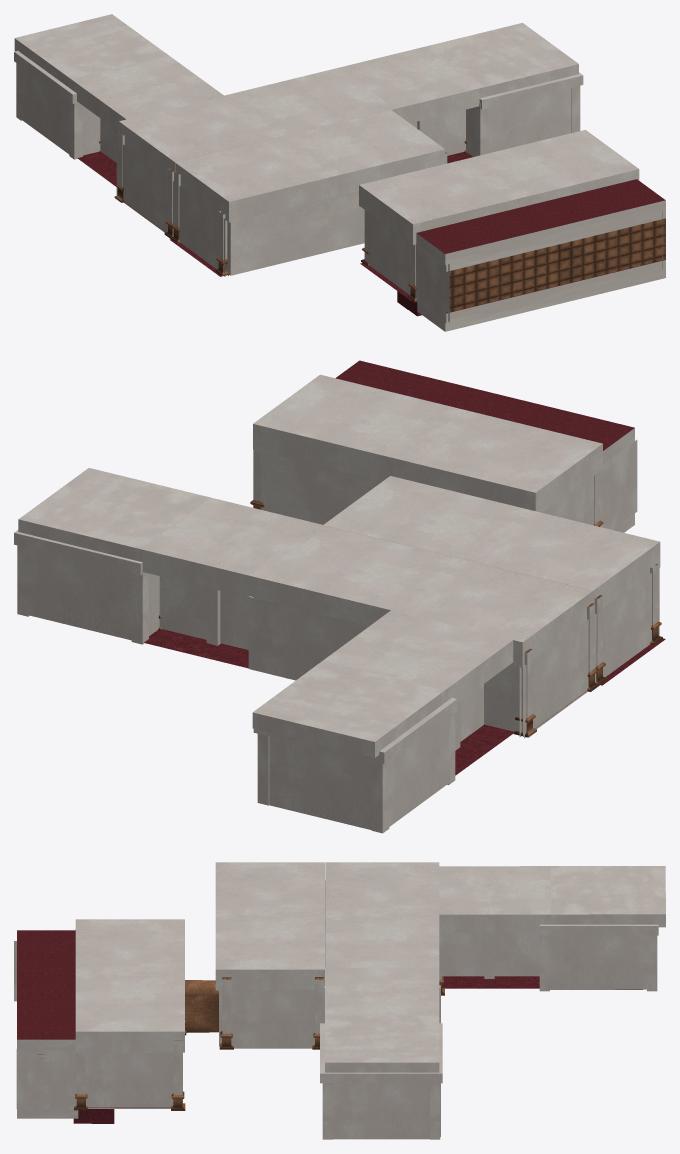
File: capstone_blockout.glb
3 renders of one model, top to bottom at view 1: azimuth 30°, elevation 25°; view 2: azimuth 150°, elevation 25°; view 3: azimuth 270°, elevation 25°, orthographic. The views are drawn at different scales.
Parts seen in each view (by area): view 1: roof-picture, roof-picture.001, roofl-foyer, Cube.004, walls, walls.013, walls.002, roof-hall, roof, roof-hall.001, roof.001, walls.006 (+9 smaller); view 2: walls, roof-picture.001, roofl-foyer, roof-picture, walls.006, roof.001, roof-hall, roof, roof-hall.001, Cube.004, walls.011, walls.003 (+7 smaller); view 3: roof-picture.001, roof-picture, roofl-foyer, walls.006, walls, roof-hall.001, Cube.004, roof.001, roof, roof-hall, walls.010, walls.005 (+10 smaller).
Part boxes in pixels (box(x1,y1,x2,y2)): roof-picture: box(175, 110, 445, 222); roof-picture.001: box(359, 130, 639, 244); roofl-foyer: box(119, 67, 394, 176); Cube.004: box(416, 179, 665, 271); walls: box(116, 72, 583, 235); walls.013: box(449, 218, 665, 311); walls.002: box(229, 191, 364, 275); roof-hall: box(332, 46, 485, 122); roof: box(425, 23, 578, 96); roof-hall.001: box(71, 55, 224, 131); roof.001: box(14, 14, 168, 88); walls.006: box(14, 51, 118, 162); walls: box(14, 530, 595, 738); roof-picture.001: box(253, 374, 602, 512); roofl-foyer: box(247, 526, 592, 667); roof-picture: box(323, 476, 660, 608); walls.006: box(253, 684, 483, 829); roof.001: box(252, 661, 444, 757); roof-hall: box(136, 497, 327, 598); roof: box(18, 468, 210, 561); roof-hall.001: box(323, 610, 513, 703); Cube.004: box(335, 360, 634, 464); walls.011: box(260, 451, 382, 524); walls.003: box(596, 567, 659, 680); roof-picture.001: box(75, 919, 184, 1052); roof-picture: box(215, 862, 324, 990); roofl-foyer: box(325, 862, 439, 968); walls.006: box(442, 924, 658, 989); walls: box(320, 880, 442, 1139); roof-hall.001: box(436, 866, 551, 932); Cube.004: box(17, 930, 75, 1050); roof.001: box(551, 866, 665, 927); roof: box(325, 1014, 439, 1072); roof-hall: box(325, 967, 439, 1015); walls.010: box(85, 1052, 173, 1108); walls.005: box(231, 990, 314, 1048).
Bounding box in the file's own units: 43.17 × 9.23 × 58.22.
6 materials, 4 textured.
